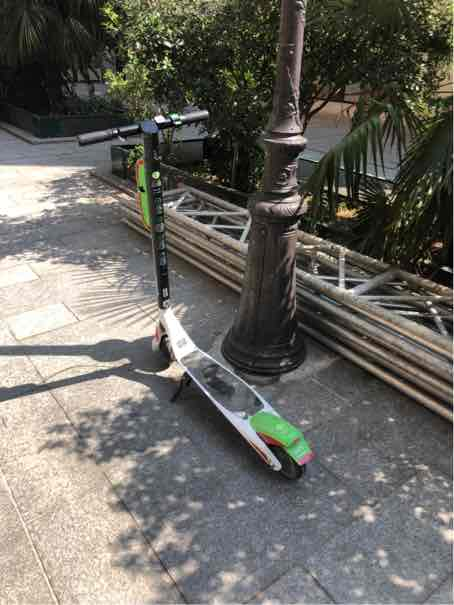scooter: (70, 110, 315, 481)
